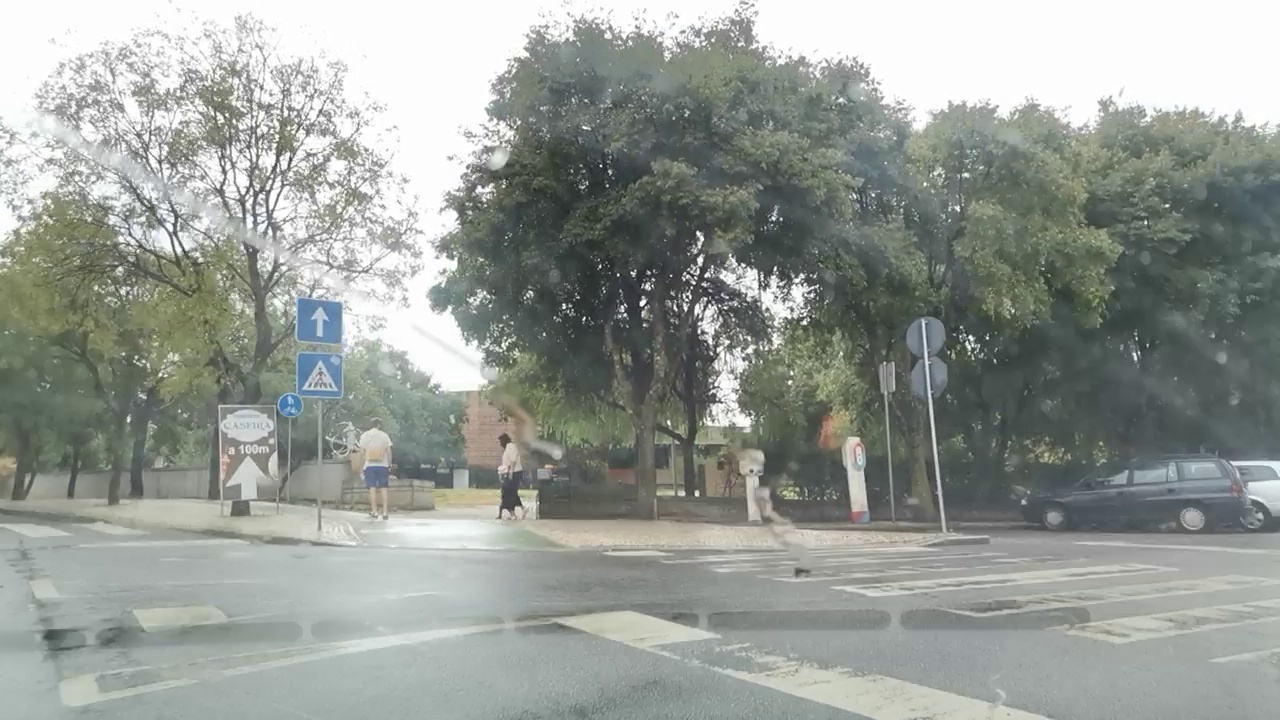Stairs: (614, 543, 1278, 673)
